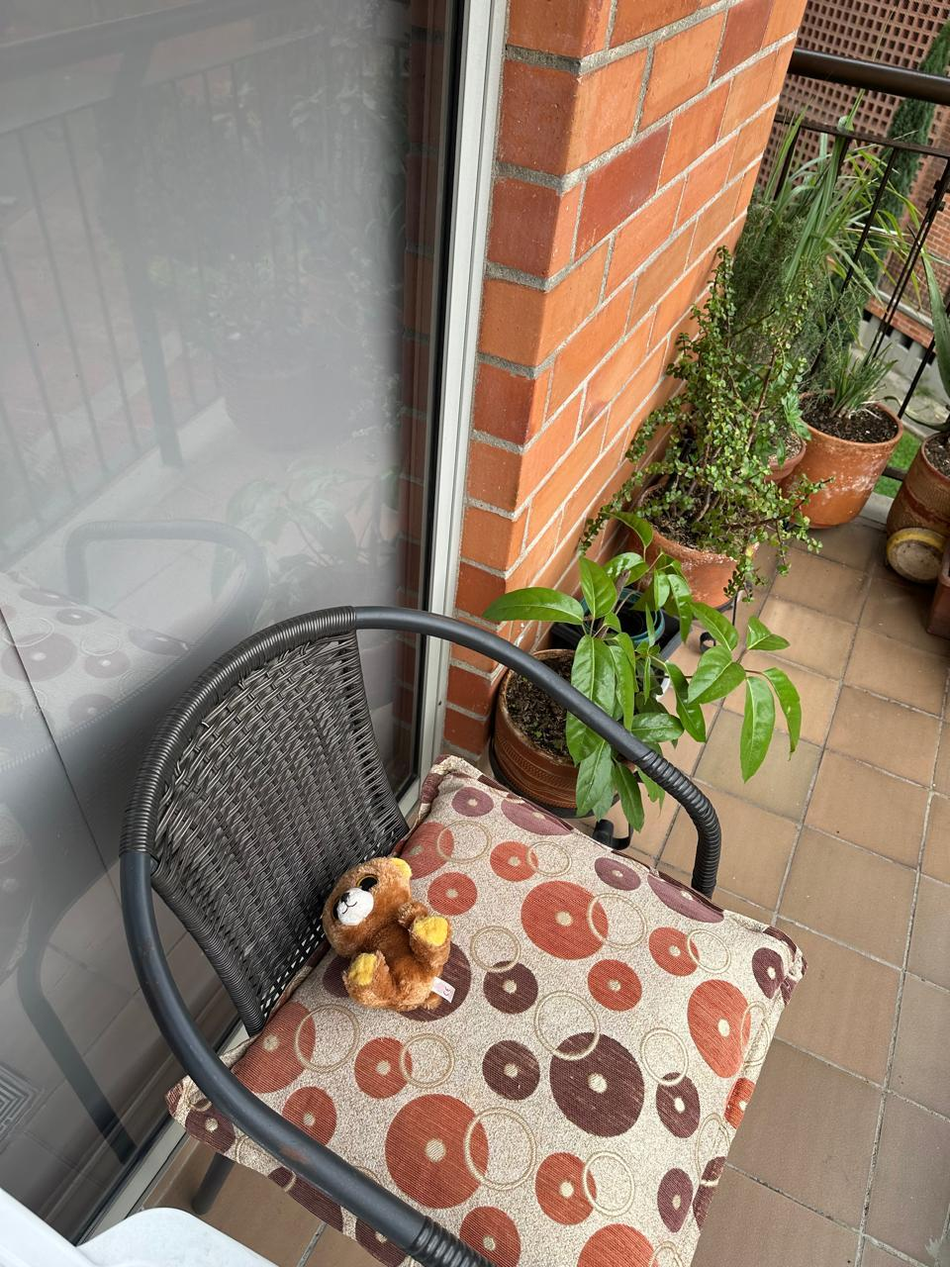peluche_sebastian: (309, 849, 448, 1010)
